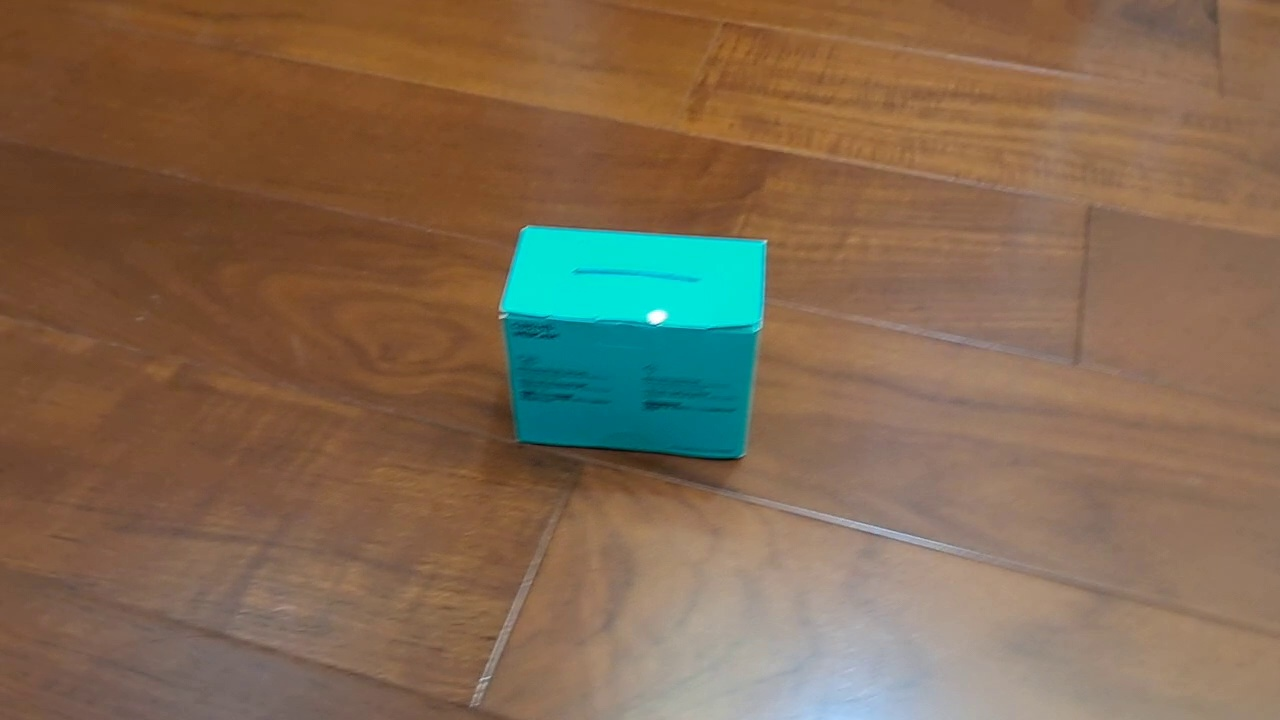webcam: (496, 224, 769, 463)
